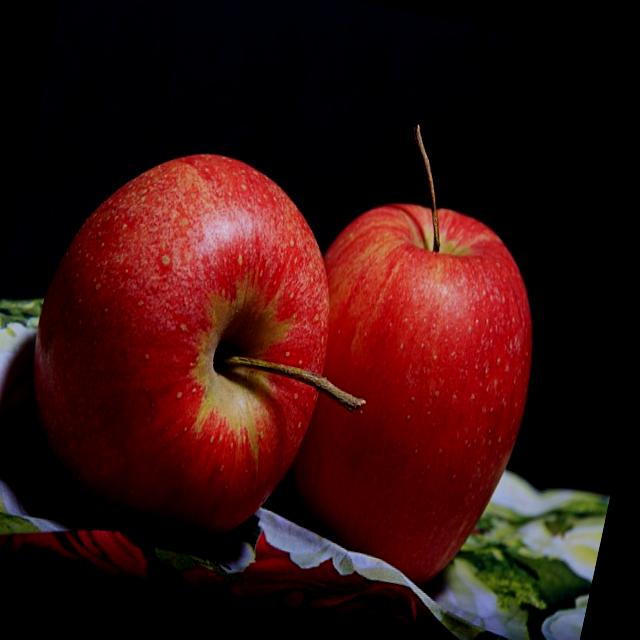apple: (0, 113, 358, 572), (244, 187, 566, 609)
